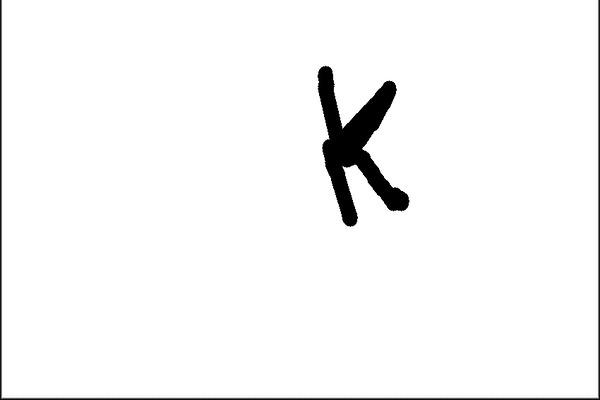K: (309, 55, 416, 235)
